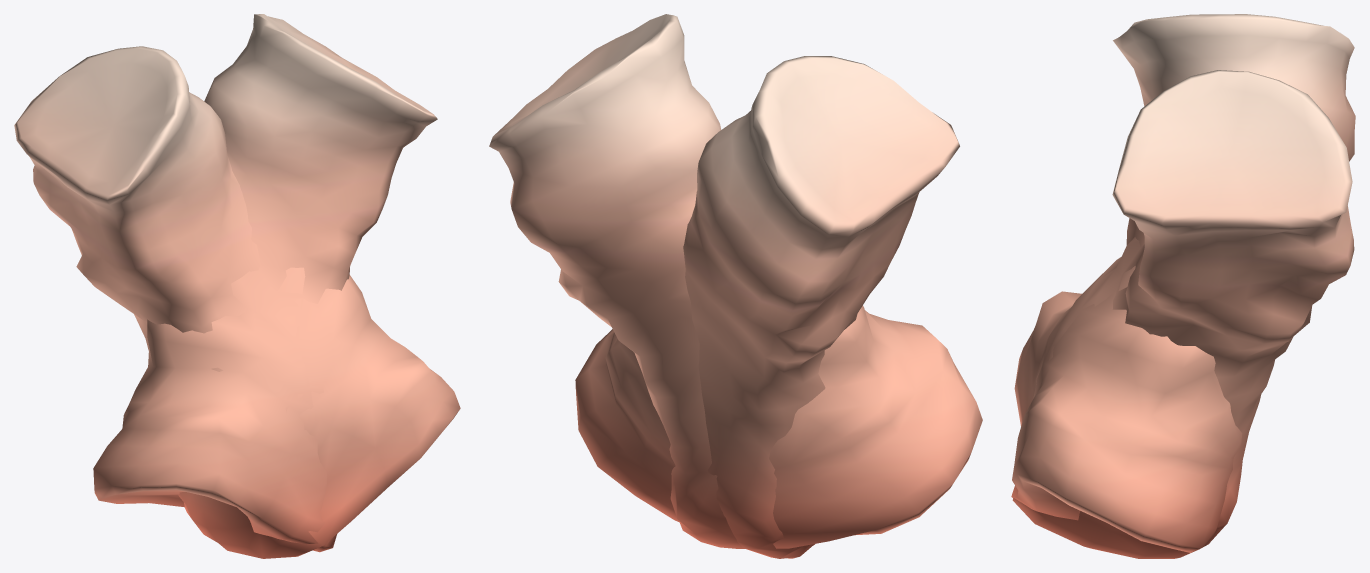
Rendered from ObbyGame_Characters_armband_.fbx.
The picture shows the model from 3 angles, left to right: view 1: azimuth 30°, elevation 25°; view 2: azimuth 150°, elevation 25°; view 3: azimuth 270°, elevation 25°; orthographic projection. The views are drawn at different scales.
Visible parts, largest first — view 1: ObbyGame_Characters_armband1_r_, ObbyGame_Characters_armband1_l_; view 2: ObbyGame_Characters_armband1_r_, ObbyGame_Characters_armband1_l_; view 3: ObbyGame_Characters_armband1_r_, ObbyGame_Characters_armband1_l_.
Part boxes in pixels (x1,y1,x2,y2): ObbyGame_Characters_armband1_r_: [93, 14, 437, 552]; ObbyGame_Characters_armband1_l_: [14, 46, 460, 558]; ObbyGame_Characters_armband1_r_: [489, 14, 982, 548]; ObbyGame_Characters_armband1_l_: [575, 56, 959, 558]; ObbyGame_Characters_armband1_r_: [1012, 70, 1354, 558]; ObbyGame_Characters_armband1_l_: [1011, 14, 1355, 552].
Size of the model in its own units: 149 by 197 by 123.
1 material, 1 textured.
